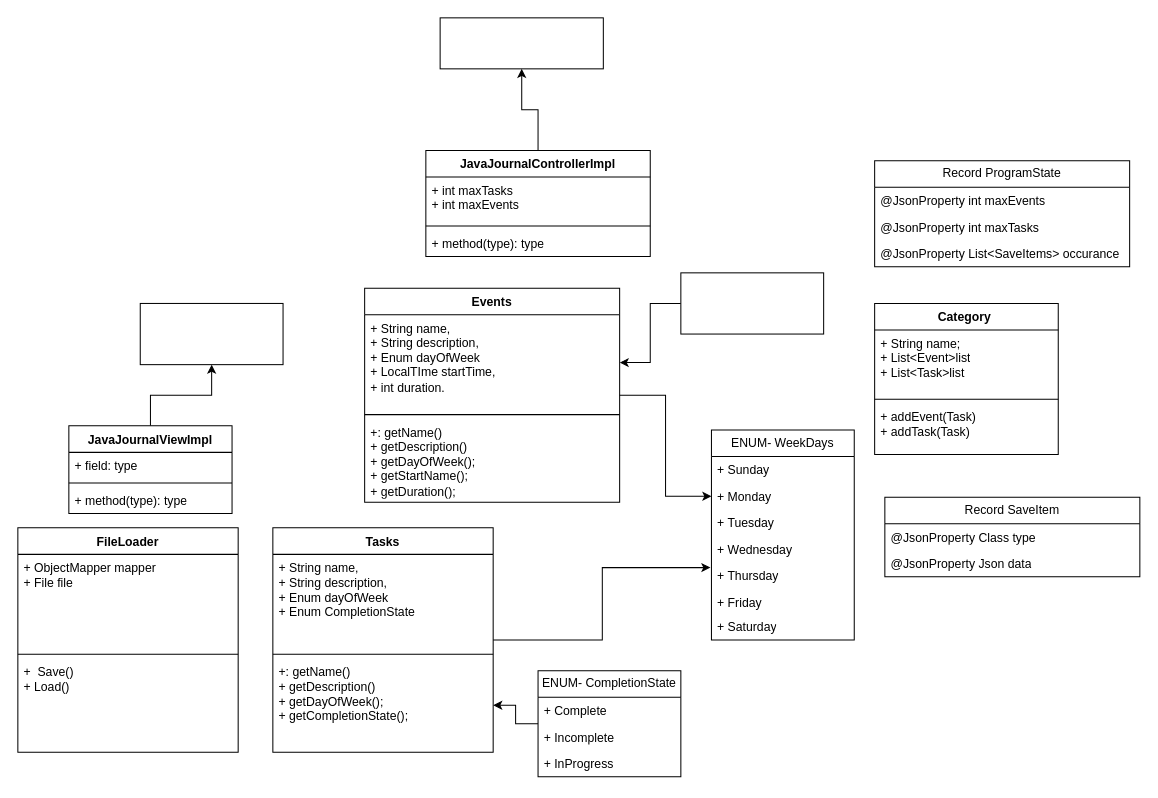
Some shapes in this 1158 by 798 pixel diagram are drawn without their labels. The centre of each missing label's shape, as x and y in pixels:
"«interface» JavaJournal" belongs at point (752, 303).
"«interface» JavaJournalController" belongs at point (521, 43).
"«interface» JavaJournalGuiView" belongs at point (211, 333).
